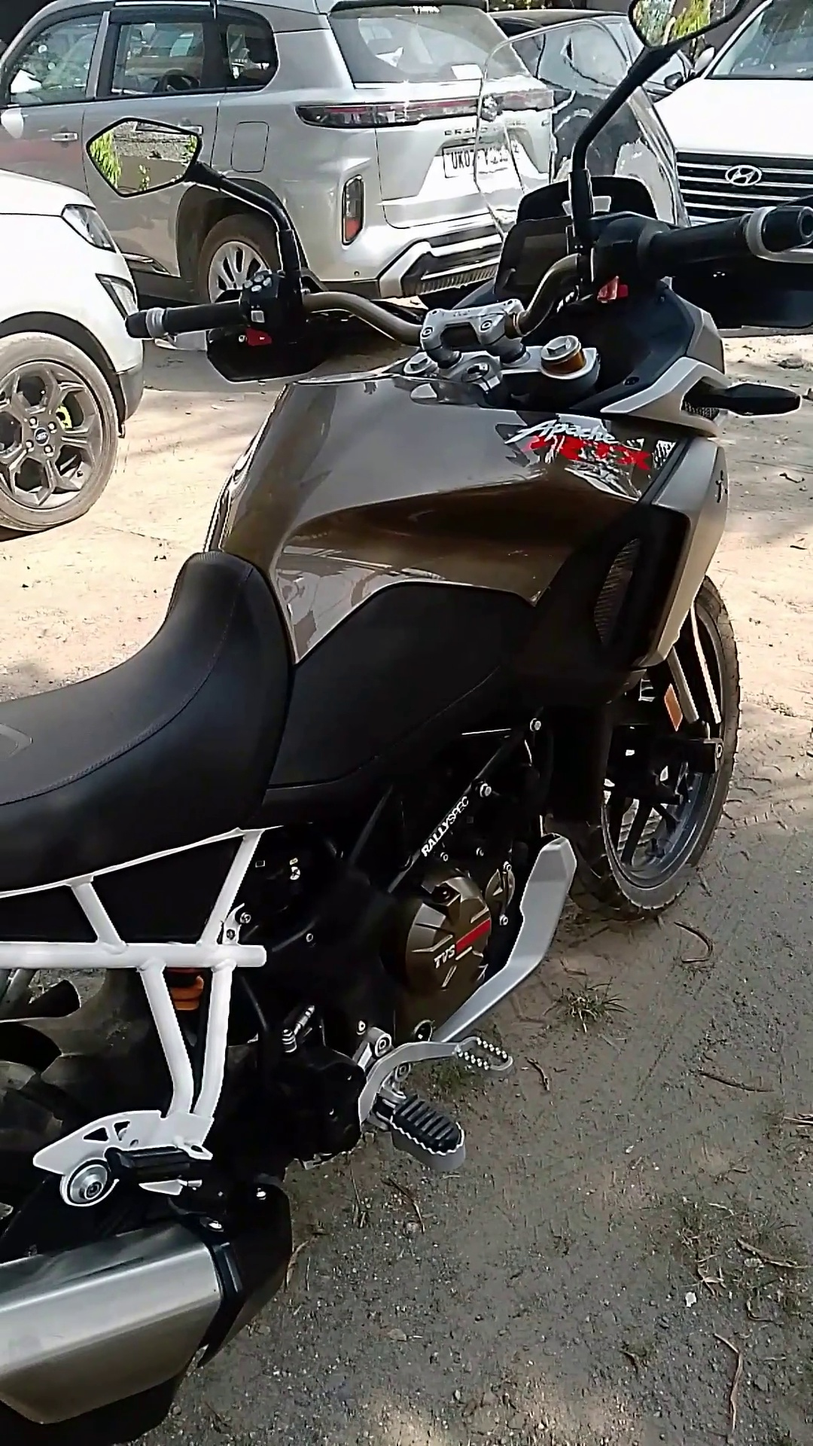engine: (391, 791, 538, 1039)
